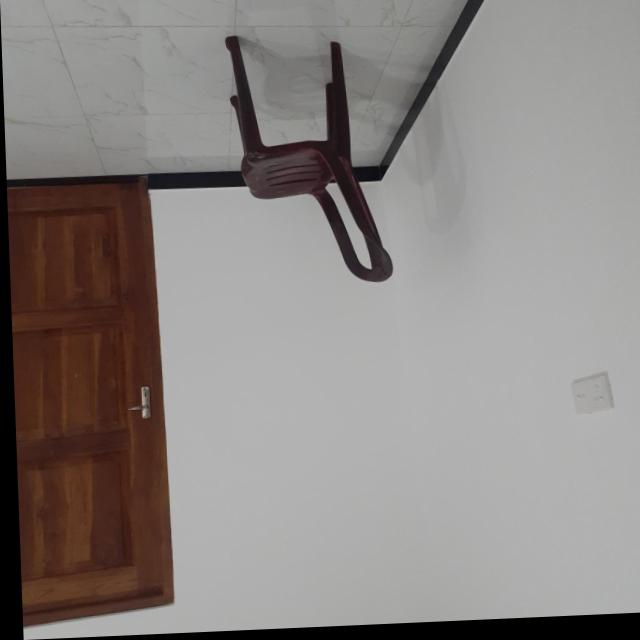Chair: (224, 30, 390, 293)
